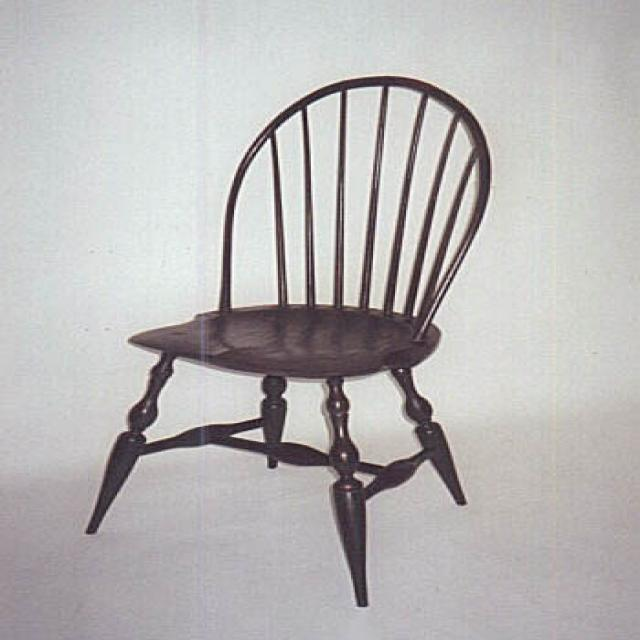chair: (84, 73, 492, 607)
